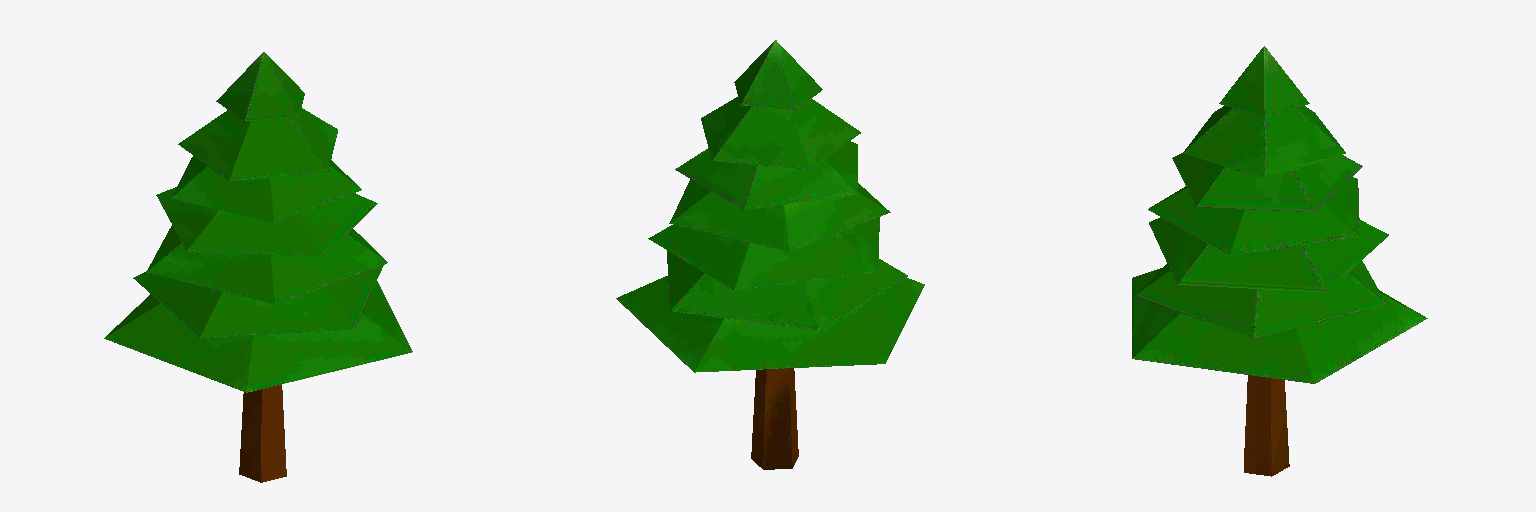
3 renders of one model, left to right at view 1: azimuth 30°, elevation 25°; view 2: azimuth 150°, elevation 25°; view 3: azimuth 270°, elevation 25°, orthographic.
Visible parts, largest first — view 1: Cone; view 2: Cone; view 3: Cone.
Part boxes in pixels (bbox=[...]): Cone: bbox=[104, 52, 412, 482]; Cone: bbox=[616, 40, 924, 469]; Cone: bbox=[1132, 46, 1427, 476].
Size of the model in its own units: 5.92 by 8.83 by 5.63.
Materials: 1 (1 with a texture image).